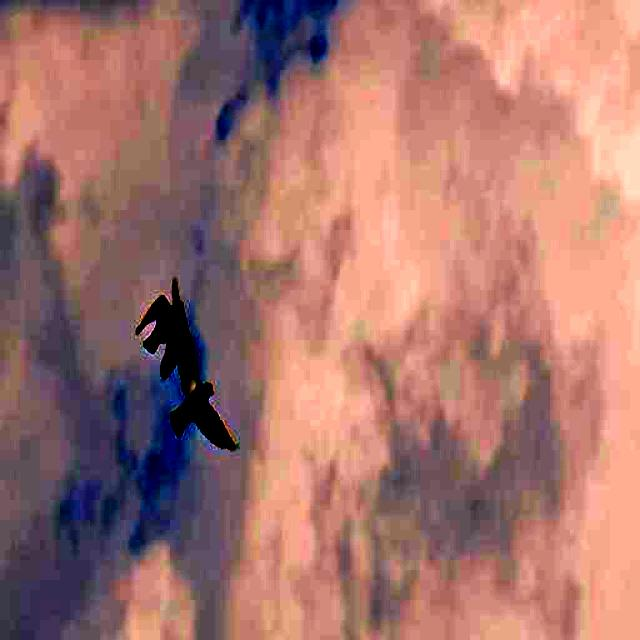airplane: (168, 284, 256, 476), (136, 281, 192, 374)
